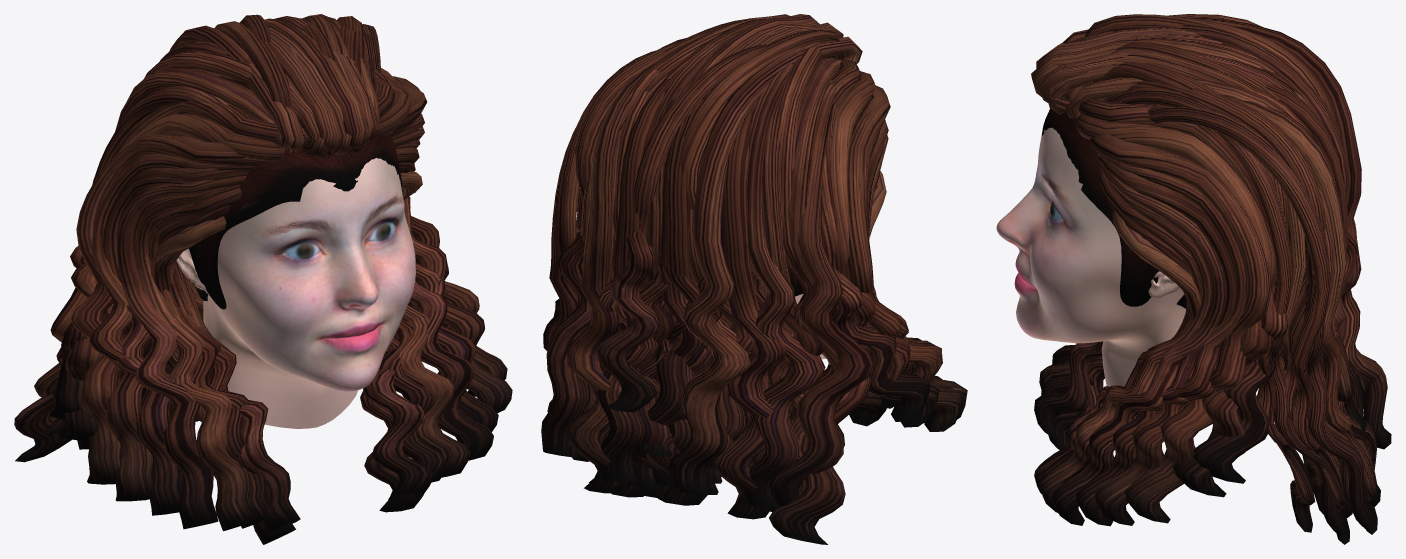
The model's file is normal.obj.
3 renders of one model, left to right at view 1: azimuth 30°, elevation 25°; view 2: azimuth 150°, elevation 25°; view 3: azimuth 270°, elevation 25°, orthographic. The views are drawn at different scales.
Parts seen in each view (by area): view 1: normal; view 2: normal; view 3: normal.
Part boxes in pixels (<box>): normal: <box>14,14,512,544</box>; normal: <box>541,14,967,544</box>; normal: <box>996,14,1391,544</box>.
Bounding box in the file's own units: 365 × 387 × 298.
